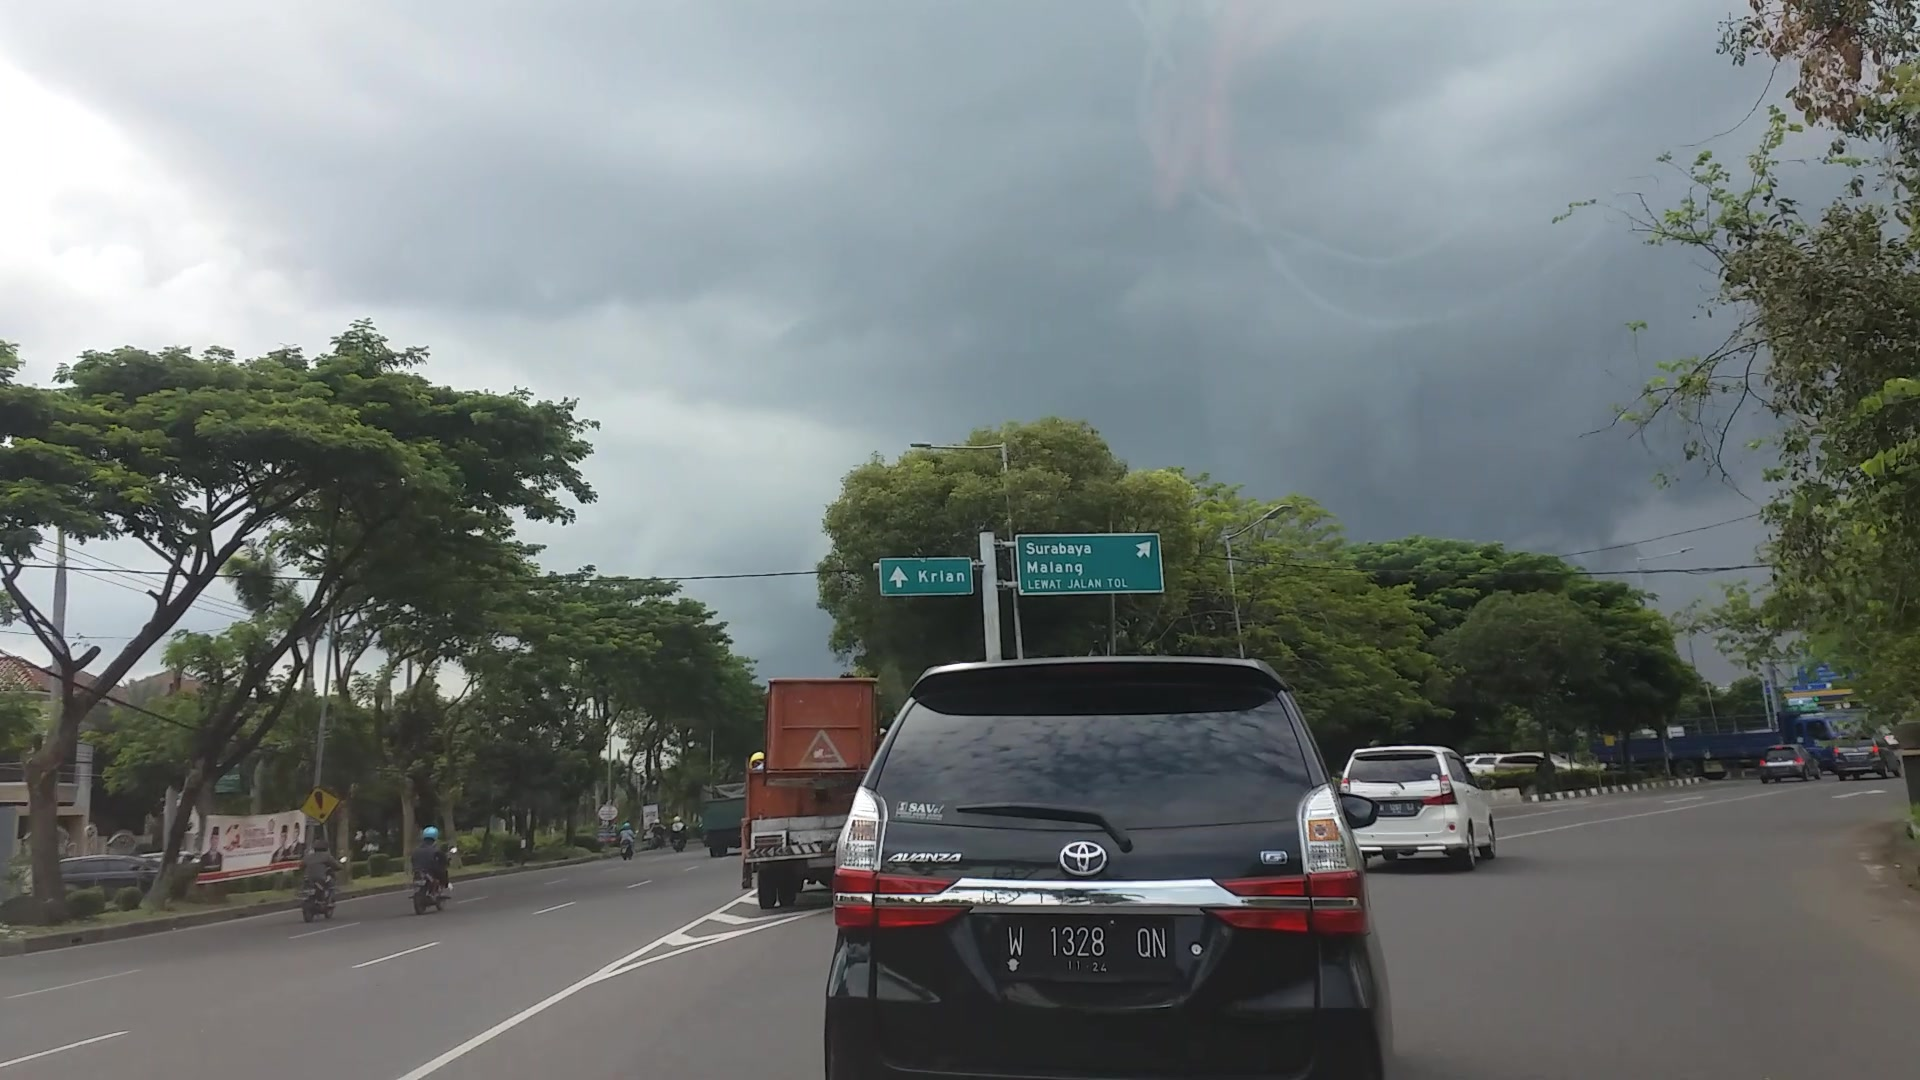plate_positive: (1004, 918, 1171, 976)
